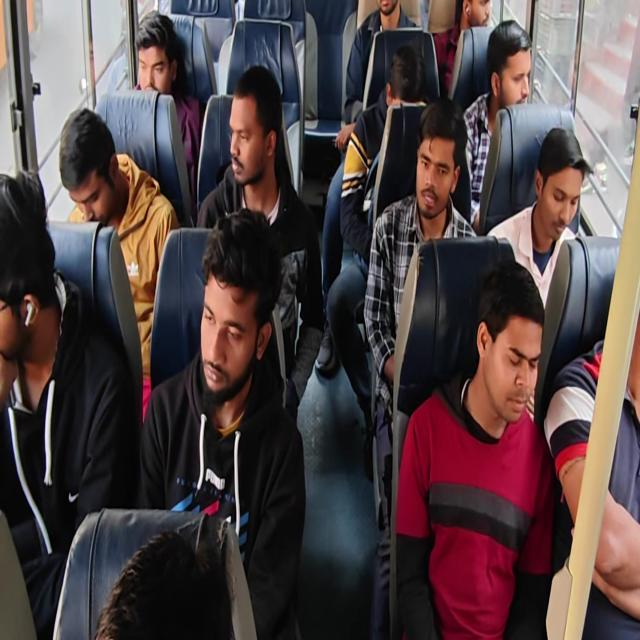person: (87, 520, 256, 640), (194, 223, 249, 437), (0, 167, 55, 371), (467, 274, 531, 434), (56, 110, 132, 228), (223, 73, 278, 185), (130, 6, 178, 101), (534, 148, 583, 241), (414, 128, 451, 219), (495, 31, 533, 116), (386, 58, 423, 120), (456, 0, 494, 37), (374, 0, 401, 23)
